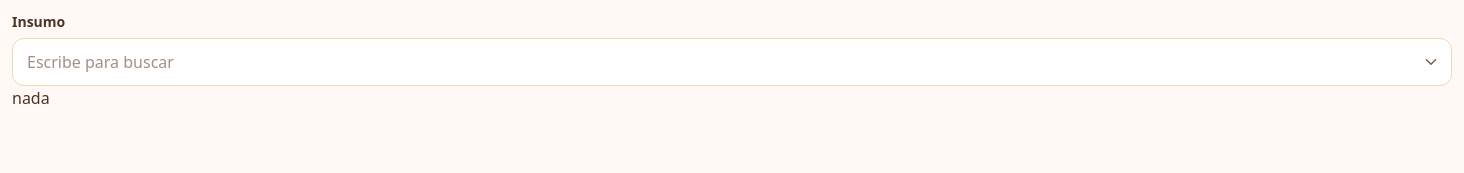
Test case: Buscador › filtra la lista mientras se escribe y elige con clic
Type "har" into the dropdown labelled "Insumo" at (732, 62), box [12,38,1452,86]
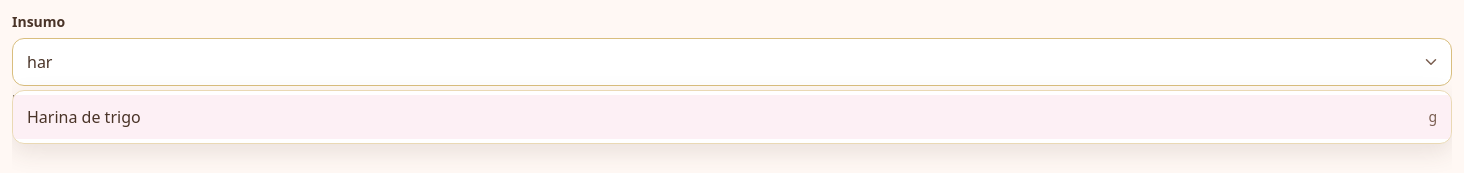
Check: the options read "Harina de trigog", in this order
Click the option "Harina de trigo g" at (84, 117), box [13,95,1451,139]
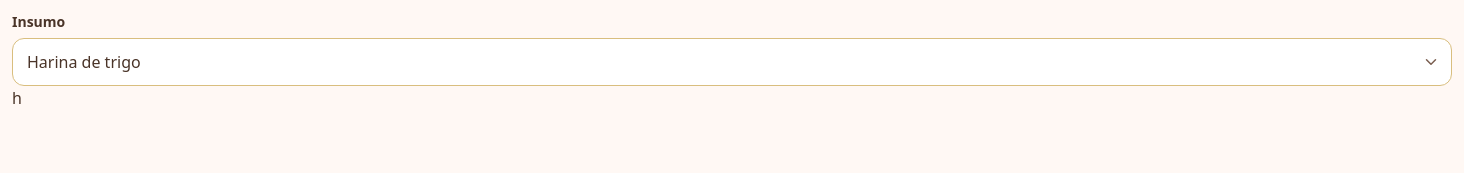
Check: the text "h" is shown, box [12,87,22,109]
Check: the dropdown labelled "Insumo" holds "Harina de trigo", box [12,38,1452,86]
Check: the list is gone
